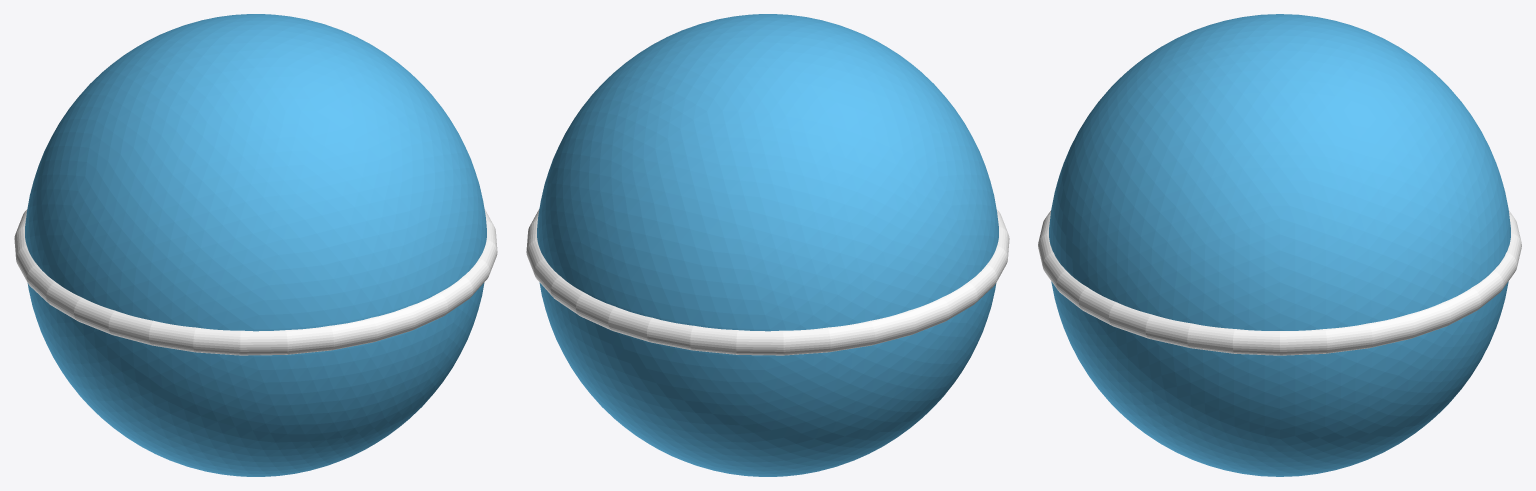
Rendered from ball.glb.
3 views of the same model, side by side, from view 1: azimuth 30°, elevation 25°; view 2: azimuth 150°, elevation 25°; view 3: azimuth 270°, elevation 25° (orthographic).
Visible parts, largest first — view 1: ball_0, ball_1; view 2: ball_0, ball_1; view 3: ball_0, ball_1.
Boxes of the visible parts, x1,y1,x2,y2 form: ball_0: (25,14,486,476); ball_1: (14,209,497,355); ball_0: (537,14,998,476); ball_1: (526,209,1009,355); ball_0: (1049,14,1510,476); ball_1: (1038,210,1521,355).
Size of the model in its own units: 0.0523 by 0.05 by 0.0523.
